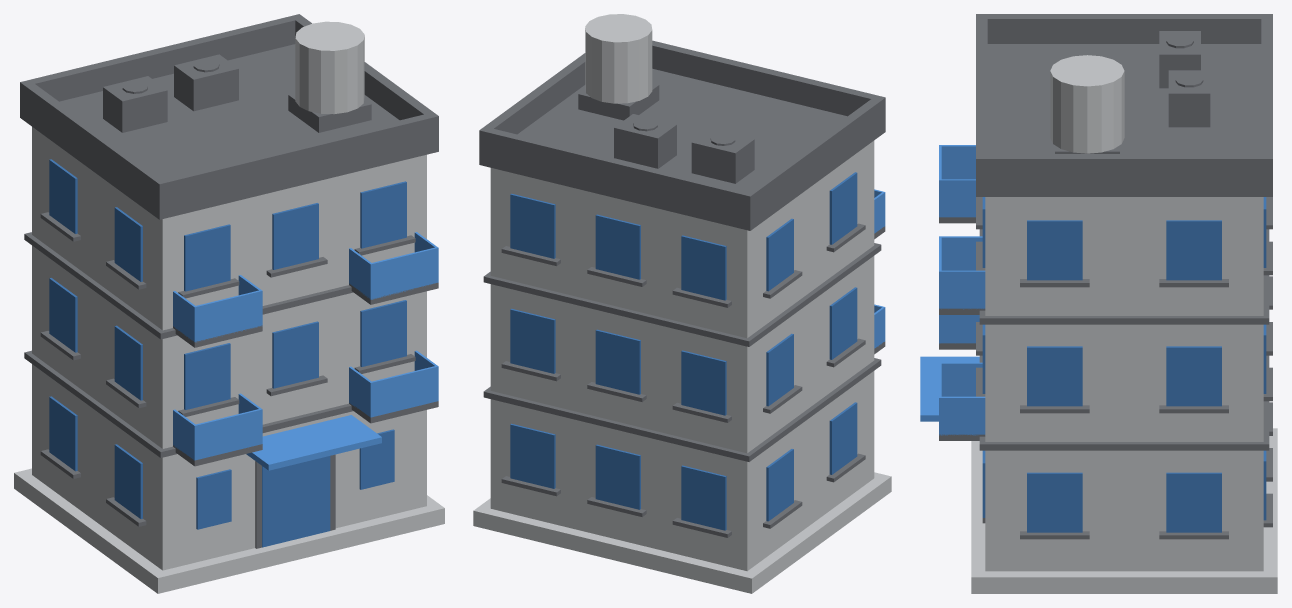
Rendered from Building_Small_02.fbx.
3 renders of one model, left to right at view 1: azimuth 30°, elevation 25°; view 2: azimuth 150°, elevation 25°; view 3: azimuth 270°, elevation 25°, orthographic. The views are drawn at different scales.
Parts seen in each view (by area): view 1: Building_Small_02_Structure, Building_Small_02_Trim, Building_Small_02_Windows, Building_Small_02_Accent; view 2: Building_Small_02_Structure, Building_Small_02_Trim, Building_Small_02_Windows, Building_Small_02_Accent; view 3: Building_Small_02_Structure, Building_Small_02_Trim, Building_Small_02_Windows, Building_Small_02_Accent.
Part boxes in pixels (bbox=[...]): Building_Small_02_Structure: bbox=[14, 21, 444, 593]; Building_Small_02_Trim: bbox=[20, 14, 438, 548]; Building_Small_02_Windows: bbox=[49, 159, 406, 547]; Building_Small_02_Accent: bbox=[173, 232, 438, 470]; Building_Small_02_Structure: bbox=[473, 14, 891, 593]; Building_Small_02_Trim: bbox=[479, 40, 885, 537]; Building_Small_02_Windows: bbox=[510, 172, 857, 530]; Building_Small_02_Accent: bbox=[874, 189, 885, 348]; Building_Small_02_Structure: bbox=[971, 55, 1277, 593]; Building_Small_02_Trim: bbox=[939, 14, 1272, 539]; Building_Small_02_Windows: bbox=[982, 197, 1266, 532]; Building_Small_02_Accent: bbox=[920, 145, 985, 435].
Bounding box in the file's own units: 7.6 × 11.7 × 7.7.
